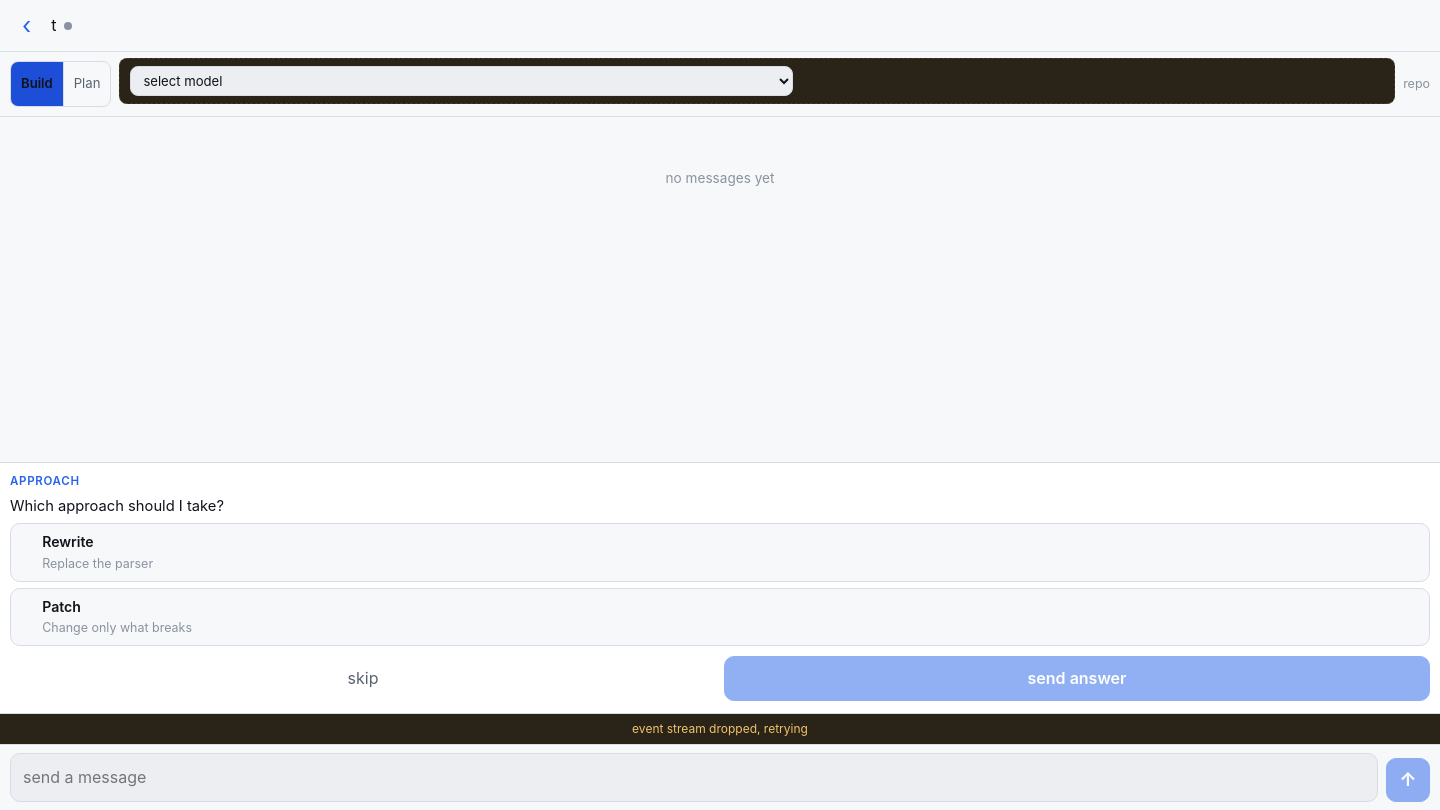
it: SessionView live event rendering › keeps the question on screen and explains the failure when a reply fails
This screenshot has width=1440, height=810.
Check: the text "Which approach should I take?" is shown, box [10,497,224,515]
Click the text "Patch": (62, 606) [42,598,81,615]
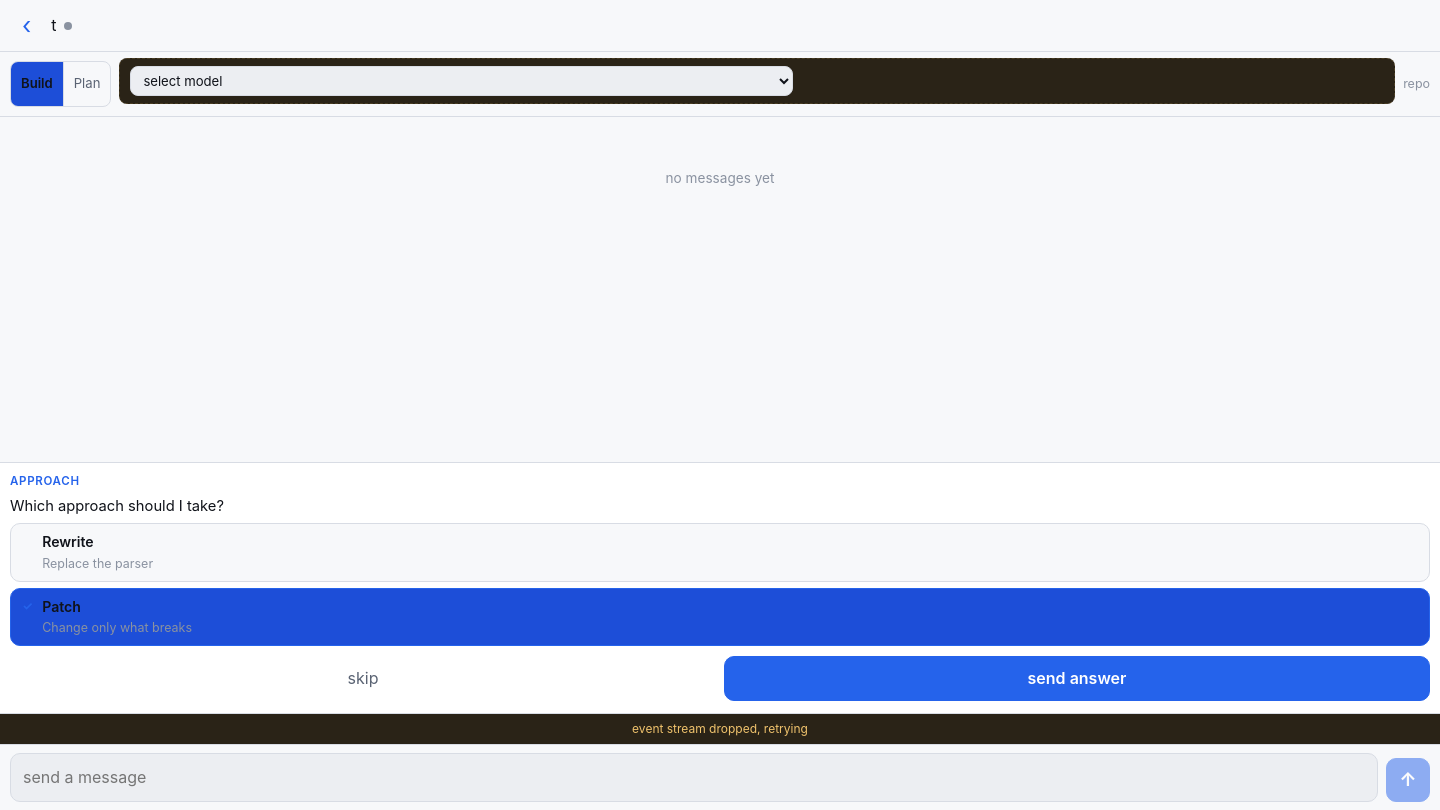
Click the button "send answer": (1077, 679) [724,656,1430,701]
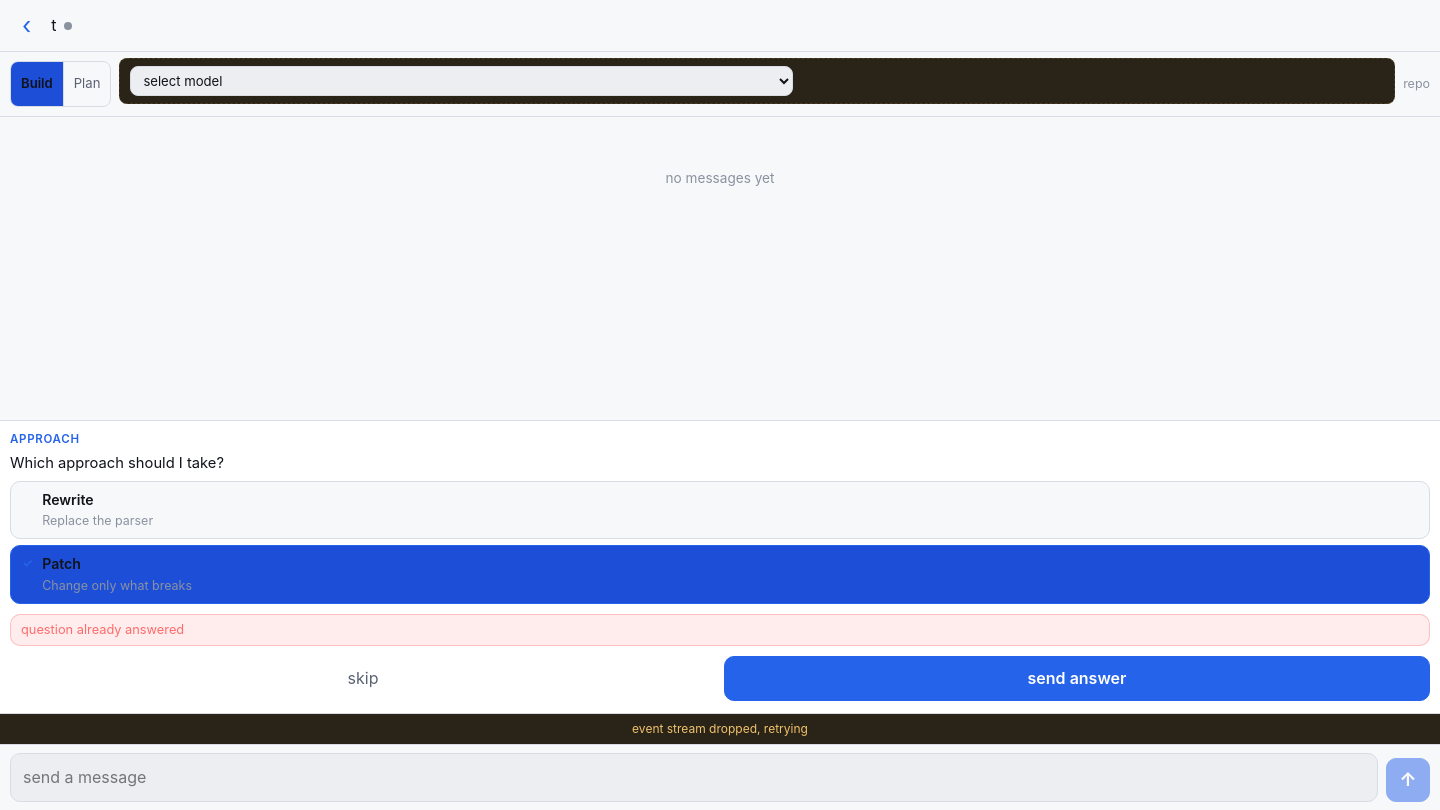
Check: the text "Which approach should I take?" is shown, box [10,454,224,472]
Check: the message "question already answered" is shown, box [10,614,1430,646]
